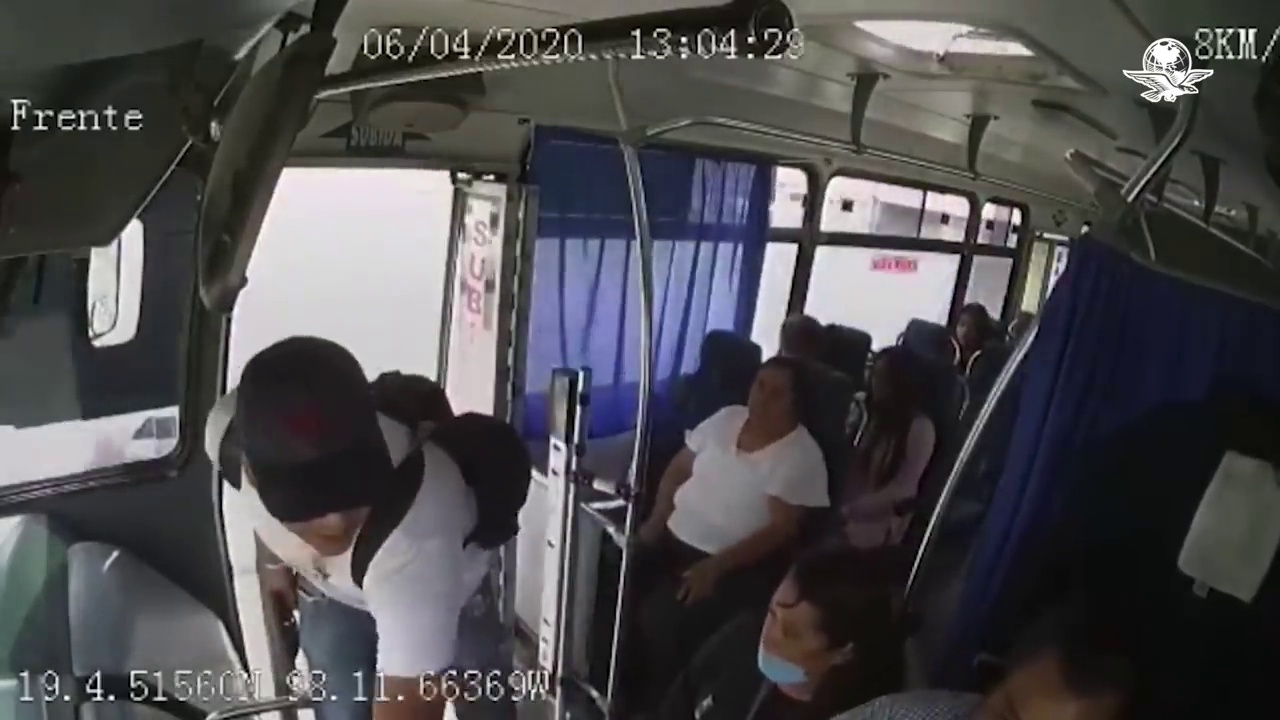pistol: (264, 584, 306, 665)
